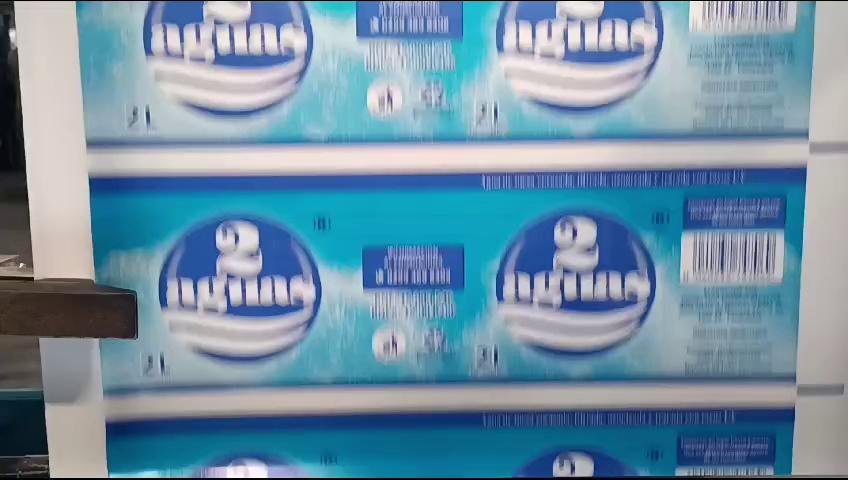print: (84, 163, 814, 394)
